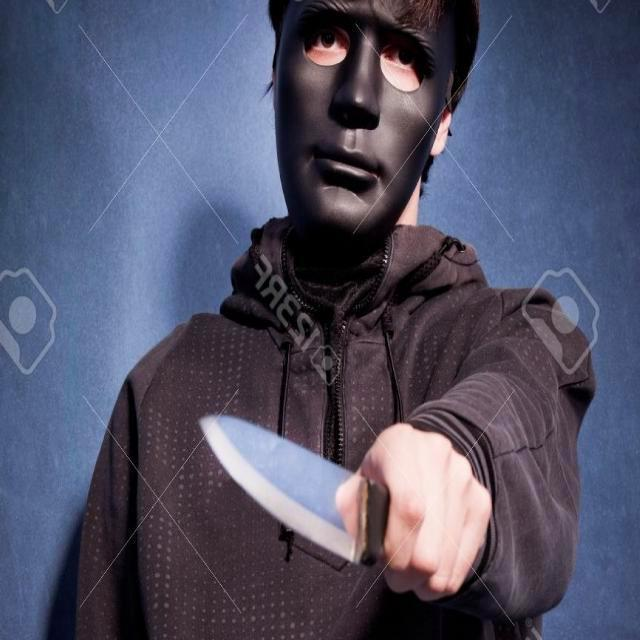Knife: (200, 415, 389, 564)
Knife_Handle: (194, 362, 504, 606)
